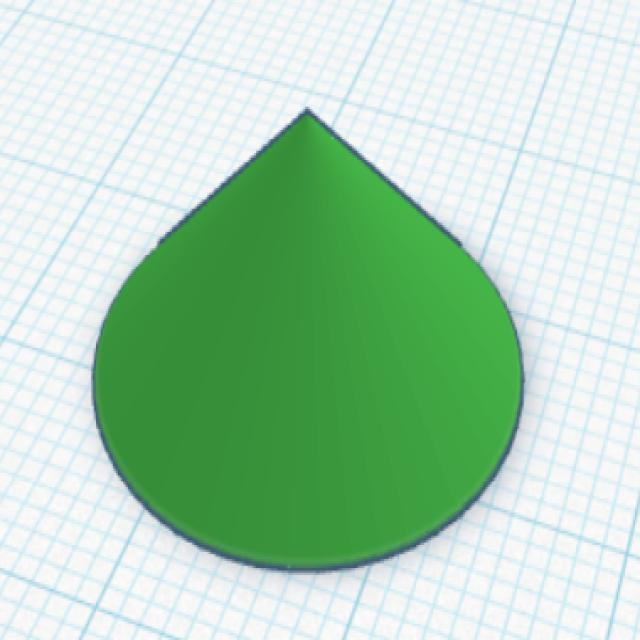cone: (89, 101, 529, 579)
